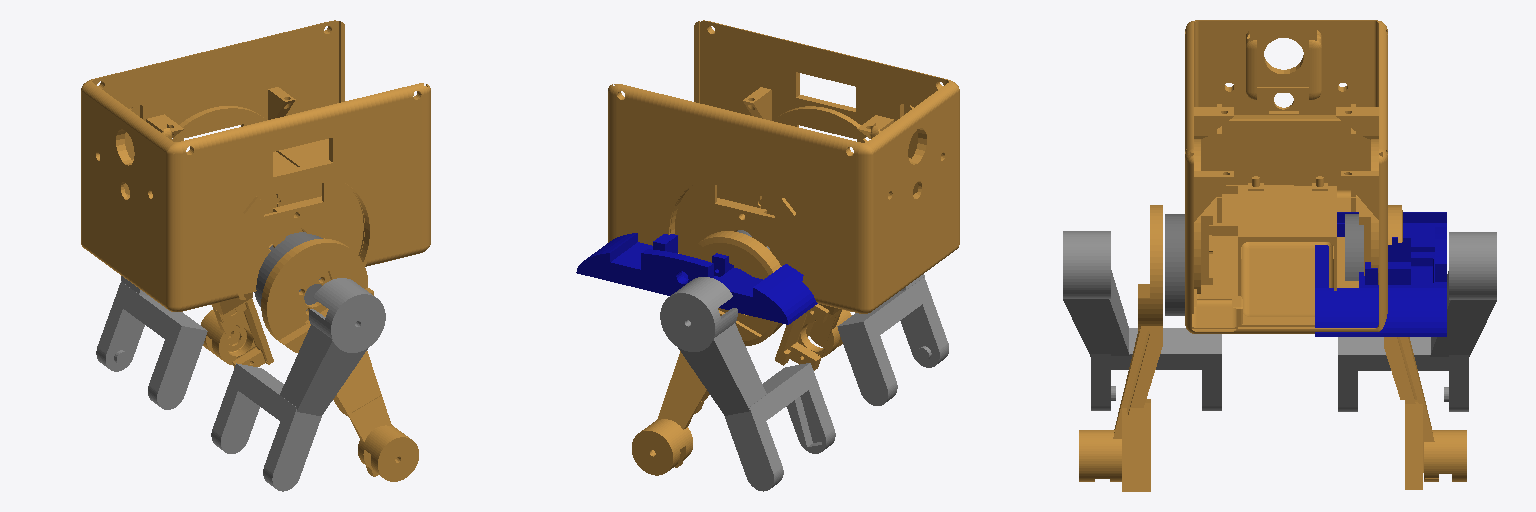
The robot description file, URDF, robot "betabot":
<?xml version="1.0"?>

<robot name="betabot">

  <link name='chassis'>
    <pose>0 0 0 0 0 0</pose>
    <inertial>
      <mass value="1"/>
      <origin xyz="0 0 0" rpy=" 0 0 0"/>
      <inertia
          ixx="0.1" ixy="0" ixz="0"
          iyy="0.1" iyz="0"
          izz="0.1"
      />
    </inertial>
    <collision name='collision'>
      <origin xyz="0 0 0" rpy="0 0 0"/>
      <geometry>
        <mesh filename="body.stl" scale="0.01 0.01 0.01" name="body" />
      </geometry>
    </collision>
    <visual name='chassis_visual'>
      <origin xyz="0 0 0" rpy="0 0 0"/>
      <geometry>
        <mesh filename="body.stl" scale="0.01 0.01 0.01" name="body" />
      </geometry>
      <material name="body">
        <color rgba="0.8 0.6 0.3 1"/>
      </material>
    </visual>
  </link>

  <link name="left_foot">
    <collision name="collision">
      <origin xyz="0 0 0" rpy="0 0 0"/>
      <geometry>
        <mesh filename="left_foot.stl" scale="0.01 0.01 0.01" name="left_foot" />
      </geometry>
    </collision>
    <visual name="left_foot_visual">
      <origin xyz="0 0 0" rpy="0 0 0"/>
      <geometry>
        <mesh filename="left_foot.stl" scale="0.01 0.01 0.01" name="left_foot" />
      </geometry>
      <material name="foot">
        <color rgba="0.1 0.1 0.7 1"/>
      </material>
    </visual>
    <inertial>
      <origin xyz="0 0 0" rpy="0 0 0"/>
      <mass value="0.1"/>
      <inertia
        ixx="0.0" ixy="0.0" ixz="0.0"
        iyy="0.0" iyz="0.0"
        izz="0.0"/>
    </inertial>
  </link>

  <link name="right_foot">
    <collision name="collision">
      <origin xyz="0 0 0" rpy="0 0 0"/>
      <geometry>
        <mesh filename="right_foot.stl" scale="0.01 0.01 0.01" name="right_foot" />
      </geometry>
    </collision>
    <visual name="right_foot_visual">
      <origin xyz="0 0 0" rpy="0 0 0"/>
      <geometry>
        <mesh filename="right_foot.stl" scale="0.01 0.01 0.01" name="right_foot" />
      </geometry>
      <material name="foot">
      </material>
    </visual>
    <inertial>
      <origin xyz="0 0 0" rpy="0 0 0"/>
      <mass value="0.1"/>
      <inertia
        ixx="0.0" ixy="0.0" ixz="0.0"
        iyy="0.0" iyz="0.0"
        izz="0.0"/>
    </inertial>
  </link>

  <link name="right_motor">
    <collision name="collision">
      <origin xyz="0 0 0" rpy="0 0 0"/>
      <geometry>
        <mesh filename="right_motor.stl" scale="0.01 0.01 0.01" name="right_motor" />
      </geometry>
    </collision>
    <visual name="right_motor_visual">
      <origin xyz="0 0 0" rpy="0 0 0"/>
      <geometry>
        <mesh filename="right_motor.stl" scale="0.01 0.01 0.01" name="right_motor" />
      </geometry>
      <material name="motor">
        <color rgba="0.5 0.5 0.5 1"/>
      </material>
    </visual>
    <inertial>
      <origin xyz="0 0 0" rpy="0 0 0"/>
      <mass value="0.8"/>
      <inertia
        ixx="0.0" ixy="0.0" ixz="0.0"
        iyy="0.0" iyz="0.0"
        izz="0.0"/>
    </inertial>
  </link>

  <link name="left_motor">
    <collision name="collision">
      <origin xyz="0 0 0" rpy="0 0 0"/>
      <geometry>
        <mesh filename="left_motor.stl" scale="0.01 0.01 0.01" name="left_motor" />
      </geometry>
    </collision>
    <visual name="right_motor_visual">
      <origin xyz="0 0 0" rpy="0 0 0"/>
      <geometry>
        <mesh filename="left_motor.stl" scale="0.01 0.01 0.01" name="left_motor" />
      </geometry>
      <material name="motor">
      </material>
    </visual>
    <inertial>
      <origin xyz="0 0 0" rpy="0 0 0"/>
      <mass value="0.8"/>
      <inertia
        ixx="0.0" ixy="0.0" ixz="0.0"
        iyy="0.0" iyz="0.0"
        izz="0.0"/>
    </inertial>
  </link>

  <link name="right_leg">
    <collision name="collision">
      <origin xyz="0 0 0" rpy="0 0 0"/>
      <geometry>
        <mesh filename="right_leg.stl" scale="0.01 0.01 0.01" name="right_leg" />
      </geometry>
    </collision>
    <visual name="right_leg_visual">
      <origin xyz="0 0 0" rpy="0 0 0"/>
      <geometry>
        <mesh filename="right_leg.stl" scale="0.01 0.01 0.01" name="right_leg" />
      </geometry>
      <material name="leg">
        <color rgba="0.8 0.6 0.3 1"/>
      </material>
    </visual>
    <inertial>
      <origin xyz="0 0 0" rpy="0 0 0"/>
      <mass value="0.1"/>
      <inertia
        ixx="0.0" ixy="0.0" ixz="0.0"
        iyy="0.0" iyz="0.0"
        izz="0.0"/>
    </inertial>
  </link>

  <link name="left_leg">
    <collision name="collision">
      <origin xyz="0 0 0" rpy="0 0 0"/>
      <geometry>
        <mesh filename="left_leg.stl" scale="0.01 0.01 0.01" name="left_leg" />
      </geometry>
    </collision>
    <visual name="left_leg_visual">
      <origin xyz="0 0 0" rpy="0 0 0"/>
      <geometry>
        <mesh filename="left_leg.stl" scale="0.01 0.01 0.01" name="left_leg" />
      </geometry>
      <material name="leg">
      </material>
    </visual>
    <inertial>
      <origin xyz="0 0 0" rpy="0 0 0"/>
      <mass value="0.1"/>
      <inertia
        ixx="0.0" ixy="0.0" ixz="0.0"
        iyy="0.0" iyz="0.0"
        izz="0.0"/>
    </inertial>
  </link>

  <link name="right_lower_leg">
    <collision name="collision">
      <origin xyz="0 0 0" rpy="0 0 0"/>
      <geometry>
        <mesh filename="right_lower_leg.stl" scale="0.01 0.01 0.01" name="right_lower_leg" />
      </geometry>
    </collision>
    <visual name="right_lower_leg_visual">
      <origin xyz="0 0 0" rpy="0 0 0"/>
      <geometry>
        <mesh filename="right_lower_leg.stl" scale="0.01 0.01 0.01" name="right_lower_leg" />
      </geometry>
      <material name="lower_leg">
        <color rgba="0.6 0.6 0.6 1"/>
      </material>
    </visual>
    <inertial>
      <origin xyz="0 0 0" rpy="0 0 0"/>
      <mass value="0.1"/>
      <inertia
        ixx="0.0" ixy="0.0" ixz="0.0"
        iyy="0.0" iyz="0.0"
        izz="0.0"/>
    </inertial>
  </link>

  <link name="left_lower_leg">
    <collision name="collision">
      <origin xyz="0 0 0" rpy="0 0 0"/>
      <geometry>
        <mesh filename="left_lower_leg.stl" scale="0.01 0.01 0.01" name="left_lower_leg" />
      </geometry>
    </collision>
    <visual name="left_leg_visual">
      <origin xyz="0 0 0" rpy="0 0 0"/>
      <geometry>
        <mesh filename="left_lower_leg.stl" scale="0.01 0.01 0.01" name="left_lower_leg" />
      </geometry>
      <material name="lower_leg">
      </material>
    </visual>
    <inertial>
      <origin xyz="0 0 0" rpy="0 0 0"/>
      <mass value="0.1"/>
      <inertia
        ixx="0.0" ixy="0.0" ixz="0.0"
        iyy="0.0" iyz="0.0"
        izz="0.0"/>
    </inertial>
  </link>


  <joint type="continuous" name="left_motor_joint">
    <origin xyz="0 0 0" rpy="0 0 0"/>
    <parent link="chassis"/>
    <child link="left_motor"/>
    <axis xyz="0 1 0" rpy="0 0 0"/>
    <limit effort="10" velocity="10"/>
    <joint_properties damping="0.5" friction="0.5"/>
  </joint>

  <joint type="continuous" name="right_motor_joint">
    <origin xyz="0 0 0" rpy="0 0 0"/>
    <parent link="chassis"/>
    <child link="right_motor"/>
    <axis xyz="0 1 0" rpy="0 0 0"/>
    <limit effort="10" velocity="10"/>
    <joint_properties damping="0.5" friction="0.5"/>
  </joint>

  <joint type="continuous" name="left_hip_joint">
    <origin xyz="0 0 0" rpy="0 0 0"/>
    <parent link="chassis"/>
    <child link="left_leg"/>
    <axis xyz="0 1 0" rpy="0 0 0"/>
    <limit effort="10" velocity="10"/>
    <joint_properties damping="0.5" friction="0.5"/>
  </joint>

  <joint type="continuous" name="right_hip_joint">
    <origin xyz="0 0 0" rpy="0 0 0"/>
    <parent link="chassis"/>
    <child link="right_leg"/>
    <axis xyz="0 1 0" rpy="0 0 0"/>
    <limit effort="10" velocity="10"/>
    <joint_properties damping="0.5" friction="0.5"/>
  </joint>

  <joint type="continuous" name="left_knee_joint">
    <origin xyz="0 0 0" rpy="0 0 0"/>
    <parent link="left_leg"/>
    <child link="left_lower_leg"/>
    <axis xyz="0 1 0" rpy="0 0 0"/>
    <limit effort="10" velocity="10"/>
    <joint_properties damping="0.5" friction="0.5"/>
  </joint>

  <joint type="continuous" name="right_knee_joint">
    <origin xyz="0 0 0" rpy="0 0 0"/>
    <parent link="right_leg"/>
    <child link="right_lower_leg"/>
    <axis xyz="0 1 0" rpy="0 0 0"/>
    <limit effort="10" velocity="10"/>
    <joint_properties damping="0.5" friction="0.5"/>
  </joint>

  <joint type="continuous" name="left_foot_joint">
    <origin xyz="0 0 0" rpy="0 0 0"/>
    <parent link="left_lower_leg"/>
    <child link="left_foot"/>
    <axis xyz="0 1 0" rpy="0 0 0"/>
    <limit effort="10" velocity="10"/>
    <joint_properties damping="0.5" friction="0.5"/>
  </joint>

  <joint type="continuous" name="right_foot_joint">
    <origin xyz="0 0 0" rpy="0 0 0"/>
    <parent link="right_lower_leg"/>
    <child link="right_foot"/>
    <axis xyz="0 1 0" rpy="0 0 0"/>
    <limit effort="10" velocity="10"/>
    <joint_properties damping="0.5" friction="0.5"/>
  </joint>

</robot>

--- Render facts (derived) ---
3 views of the same robot in one strip: view 1: azimuth 30°, elevation 25°; view 2: azimuth 150°, elevation 25°; view 3: azimuth 270°, elevation 25° (orthographic).
Model betabot with 9 links and 8 joints (8 continuous), rooted at chassis, posed all joints at 0.
Links seen in each view (by area): view 1: chassis, left_lower_leg, left_leg, right_lower_leg, right_leg, right_motor; view 2: chassis, right_lower_leg, right_foot, right_leg, left_lower_leg, left_leg; view 3: chassis, right_foot, left_lower_leg, right_lower_leg, left_leg, right_leg, right_motor, left_motor.
Link boxes in pixels (bbox=[...]): chassis: bbox=[81, 20, 430, 311]; left_lower_leg: bbox=[211, 278, 385, 491]; left_leg: bbox=[261, 238, 418, 481]; right_lower_leg: bbox=[96, 276, 207, 409]; right_leg: bbox=[201, 292, 273, 367]; right_motor: bbox=[254, 232, 322, 310]; chassis: bbox=[608, 20, 959, 313]; right_lower_leg: bbox=[660, 277, 835, 491]; right_foot: bbox=[576, 233, 817, 324]; right_leg: bbox=[632, 231, 782, 475]; left_lower_leg: bbox=[837, 274, 948, 405]; left_leg: bbox=[775, 304, 851, 370]; chassis: bbox=[1185, 20, 1387, 333]; right_foot: bbox=[1315, 212, 1446, 336]; left_lower_leg: bbox=[1063, 231, 1221, 410]; right_lower_leg: bbox=[1338, 232, 1496, 411]; left_leg: bbox=[1079, 205, 1162, 491]; right_leg: bbox=[1384, 205, 1466, 489]; right_motor: bbox=[1165, 214, 1184, 315]; left_motor: bbox=[1345, 214, 1363, 280].
Bounding box of the posed robot: 1.3 × 1.72 × 1.65 m (x, y, z).
8 mesh visuals loaded from 9 distinct referenced files (8 binary STL); not drawn: 1 (reference not matched to a file when rendering).